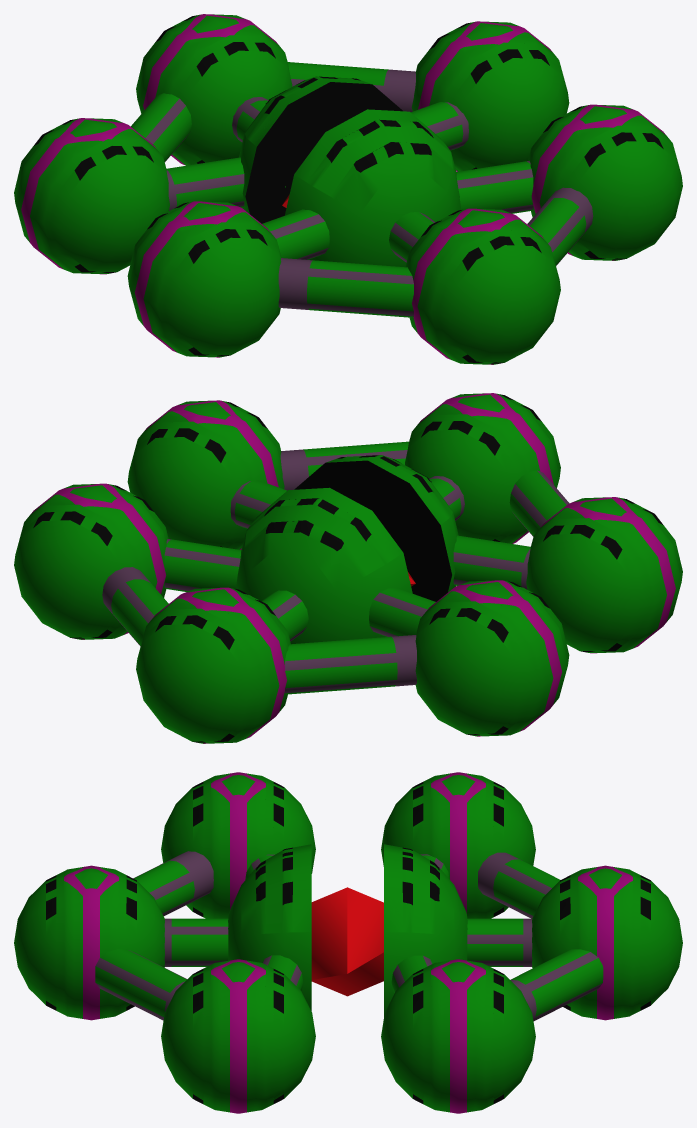
The model's file is station.dae.
3 renders of one model, top to bottom at view 1: azimuth 30°, elevation 25°; view 2: azimuth 150°, elevation 25°; view 3: azimuth 270°, elevation 25°, orthographic. The views are drawn at different scales.
Parts seen in each view (by area): view 1: $dummy_node (×4); view 2: $dummy_node (×4); view 3: $dummy_node (×5).
Part boxes in pixels (x1,y1,x2,y2): $dummy_node (×4): (14, 14, 682, 364); $dummy_node (×4): (14, 393, 682, 743); $dummy_node (×5): (14, 772, 682, 1113).
Size of the model in its own units: 2.62 by 0.8835 by 2.93.
